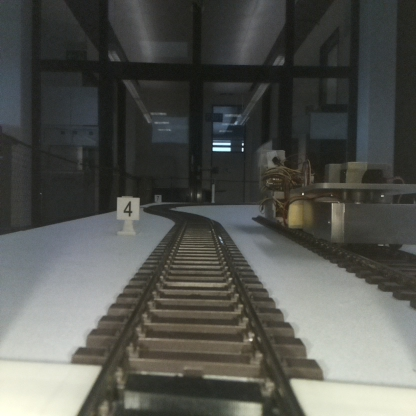white-stop-4: (117, 197, 139, 234)
